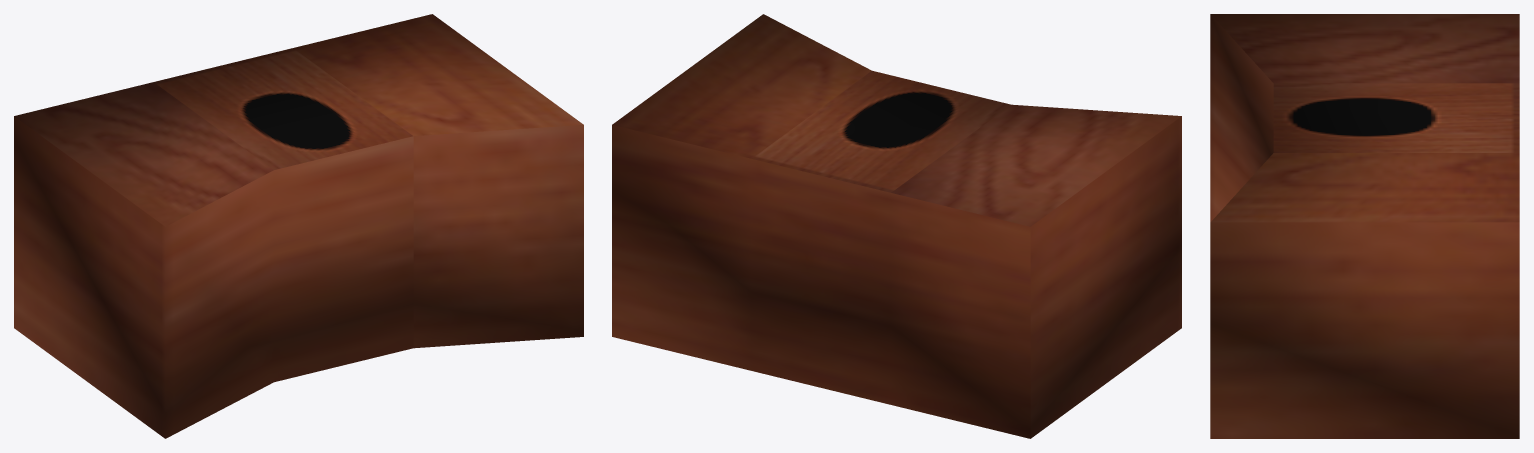
Rendered from Toilet.fbx.
3 views of the same model, side by side, from view 1: azimuth 30°, elevation 25°; view 2: azimuth 150°, elevation 25°; view 3: azimuth 270°, elevation 25° (orthographic). The views are drawn at different scales.
Visible parts, largest first — view 1: Toilet; view 2: Toilet; view 3: Toilet.
Part boxes in pixels (<box>): Toilet: <box>14,14,583,438</box>; Toilet: <box>612,14,1181,438</box>; Toilet: <box>1210,14,1519,438</box>.
Bounding box in the file's own units: 423 × 205 × 265.
